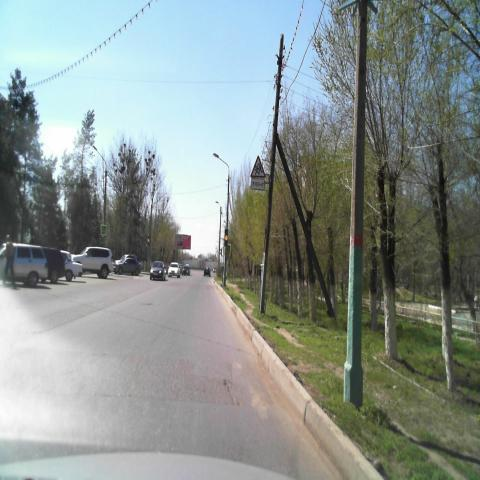8_2_1: (251, 177, 265, 192)
